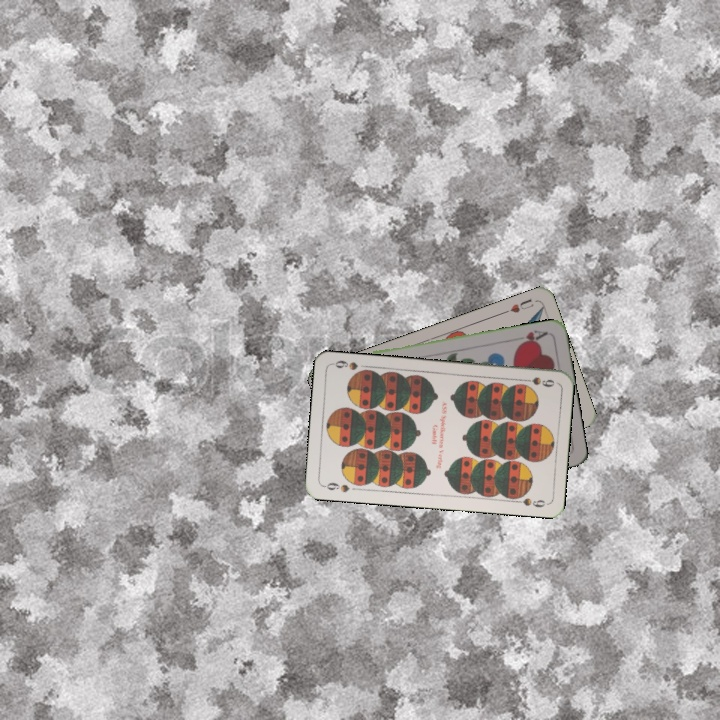HA: (513, 326, 550, 348)
HU: (499, 294, 536, 316)
S9: (517, 373, 556, 390), (319, 478, 352, 495)
